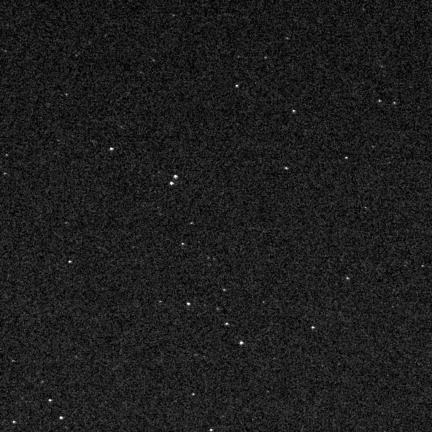blob: (60, 416, 65, 421), (284, 167, 289, 171), (173, 175, 178, 179), (170, 182, 175, 186), (240, 341, 244, 345), (311, 327, 316, 330), (68, 261, 73, 264), (235, 85, 240, 88), (110, 148, 114, 151), (225, 323, 229, 326), (292, 110, 296, 113), (345, 157, 349, 160), (187, 303, 190, 305)
